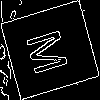M: (25, 24, 77, 77)
